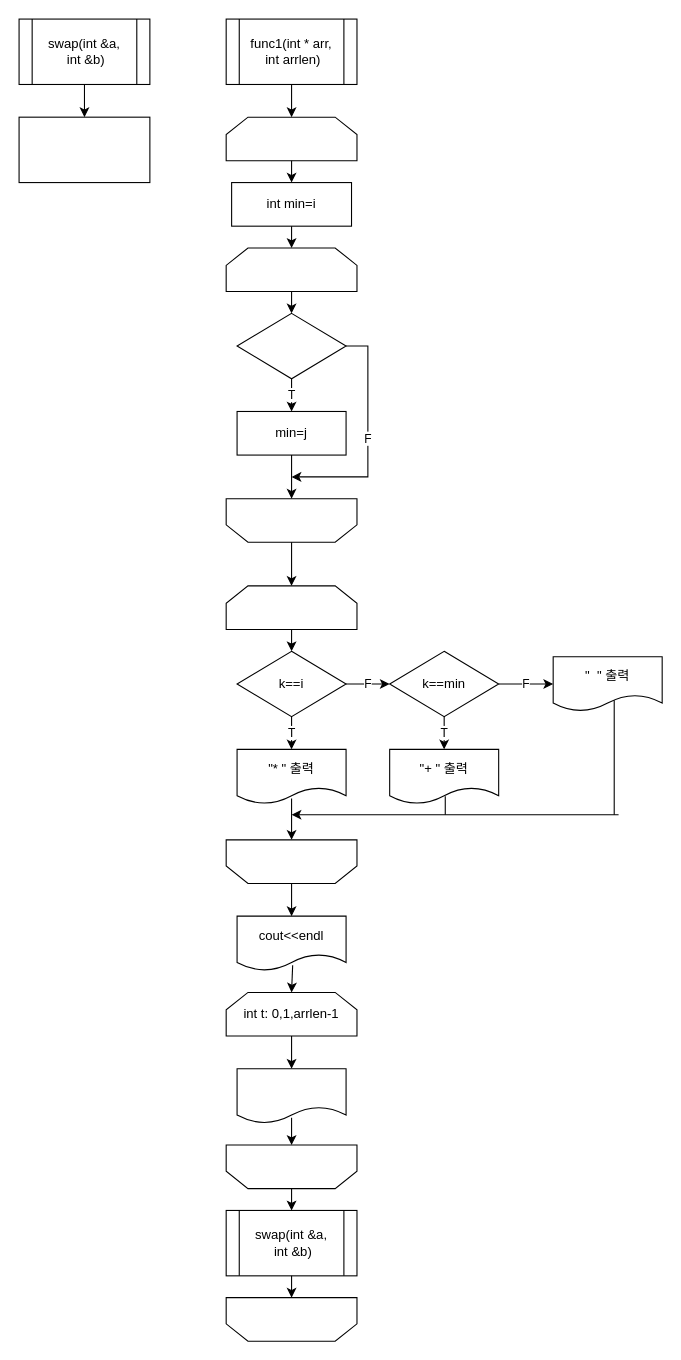
The diagram is 681 pixels wide and 1360 high, and some of its shapes have lost their labels. The shapes that lost their labels are listed below. From the top down, each one's box as (x1, y1, x2, y2) in pixels, then its label:
(18, 116, 150, 183): int temp=a a=b b=temp
(225, 116, 357, 161): int i:0,1,arrlen-1
(225, 247, 357, 292): int j: i+1,1,arrlen-1
(236, 312, 346, 379): arr[j]<arr[min]
(225, 585, 357, 629): int k: 0,1,arrlen-1
(236, 1068, 346, 1123): arr[t] 출력
